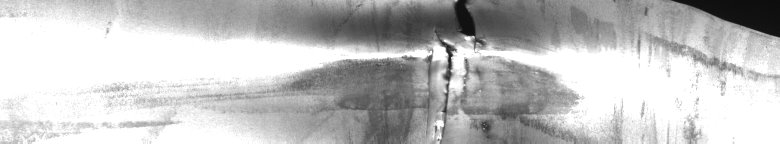ke: (280, 4, 776, 136)
